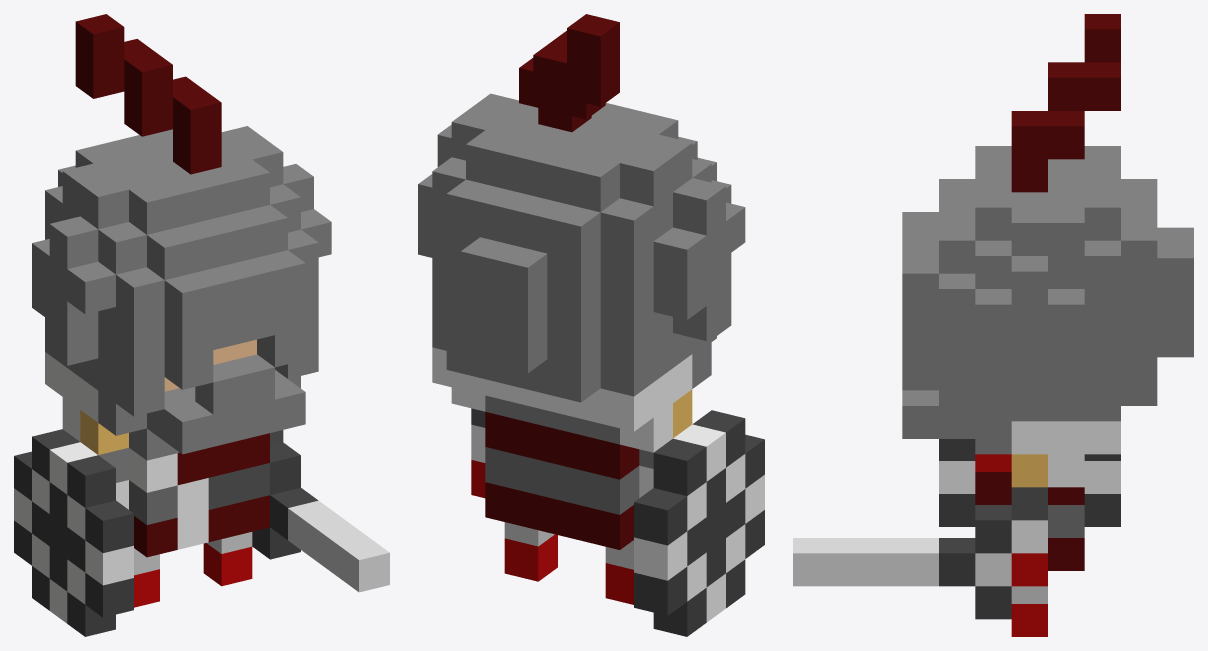
The model's file is idle.obj.
3 renders of one model, left to right at view 1: azimuth 30°, elevation 25°; view 2: azimuth 150°, elevation 25°; view 3: azimuth 270°, elevation 25°, orthographic. The views are drawn at different scales.
Size of the model in its own units: 0.8 by 1.7 by 1.1.
1 material, 1 textured.
